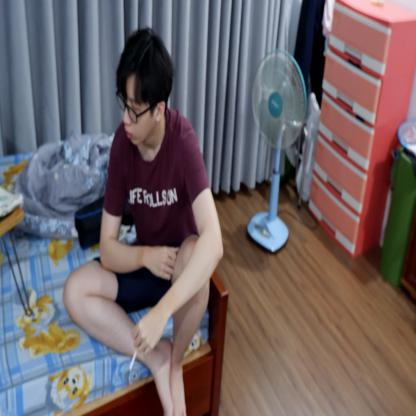cigarette: (129, 346, 140, 370)
person: (72, 25, 223, 415)
